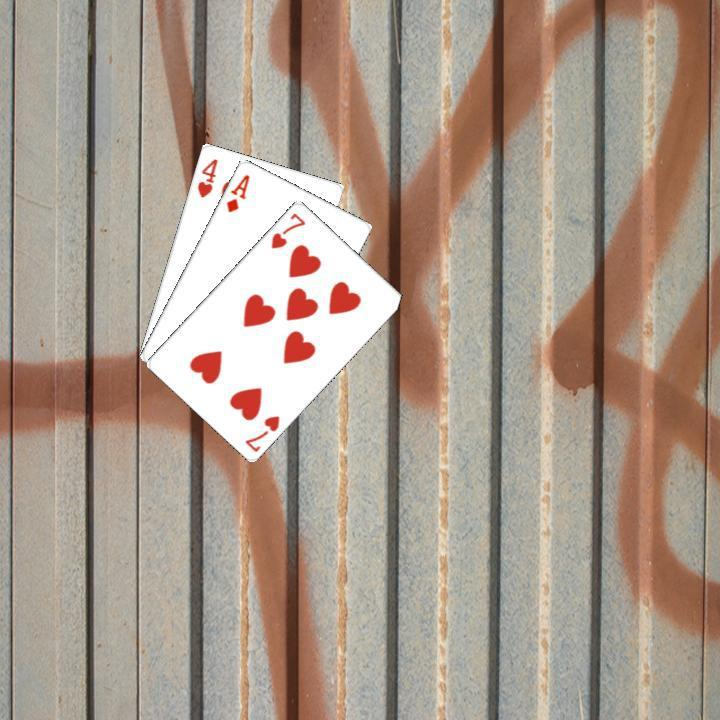4: (193, 154, 219, 199)
7: (240, 410, 282, 454), (266, 208, 308, 251)
A: (222, 169, 252, 214)
